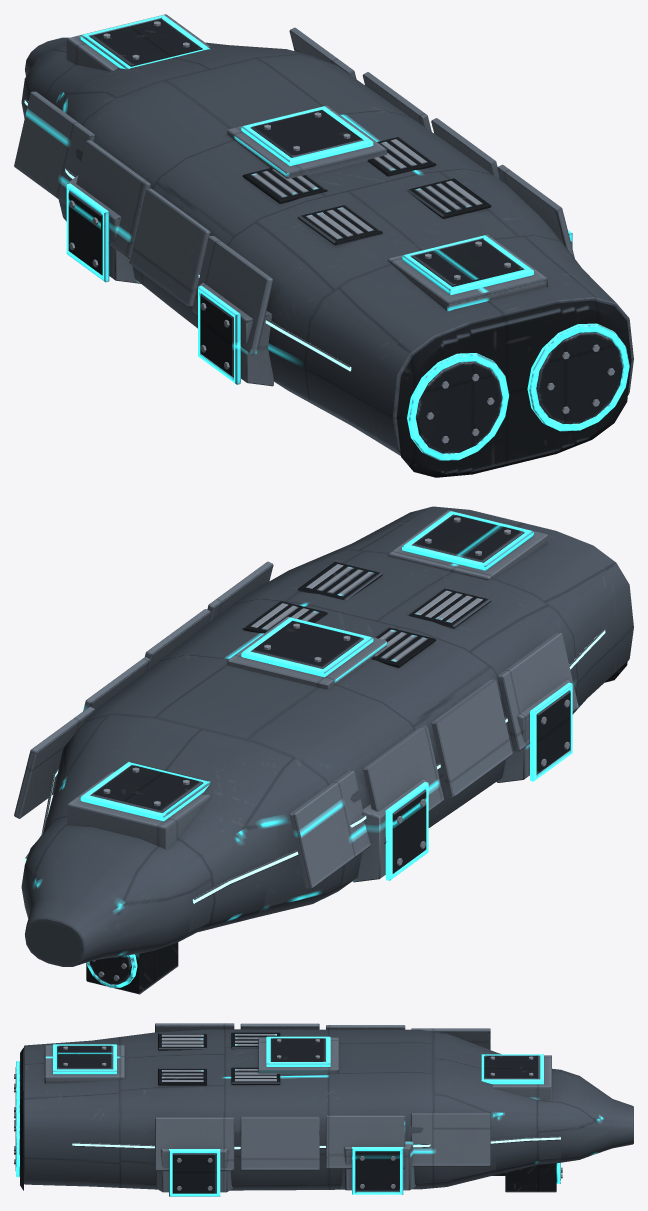
File: casco_bombardero_t3.fbx
The picture shows the model from 3 angles, top to bottom: view 1: azimuth 30°, elevation 25°; view 2: azimuth 150°, elevation 25°; view 3: azimuth 270°, elevation 25°; orthographic projection. The views are drawn at different scales.
Visible parts, largest first — view 1: casco_bombardero_t3; view 2: casco_bombardero_t3, casco_bombardero_t3_neon; view 3: casco_bombardero_t3, casco_bombardero_t3_neon.
Boxes of the visible parts, box(x1,y1,x2,y2) form: casco_bombardero_t3: box(14, 14, 633, 477); casco_bombardero_t3: box(14, 506, 633, 994); casco_bombardero_t3_neon: box(24, 630, 605, 903); casco_bombardero_t3: box(14, 1023, 633, 1196); casco_bombardero_t3_neon: box(72, 1137, 560, 1149).
Size of the model in its own units: 8.18 by 4.67 by 19.31.
